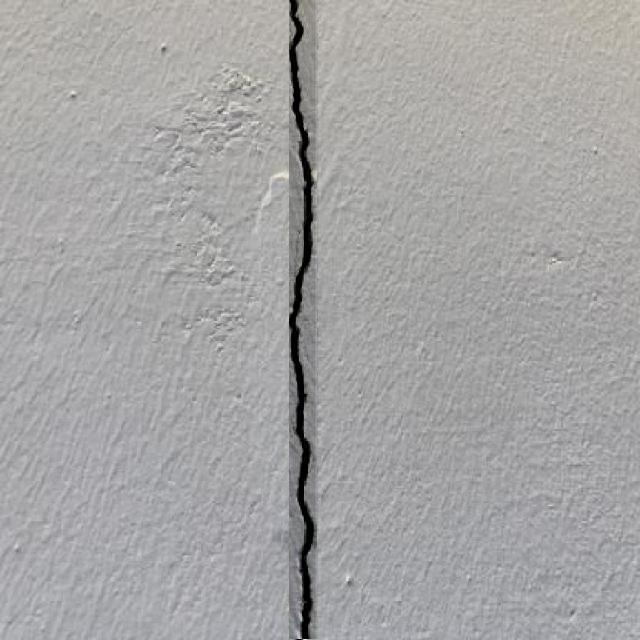Crack: (283, 0, 317, 639)
